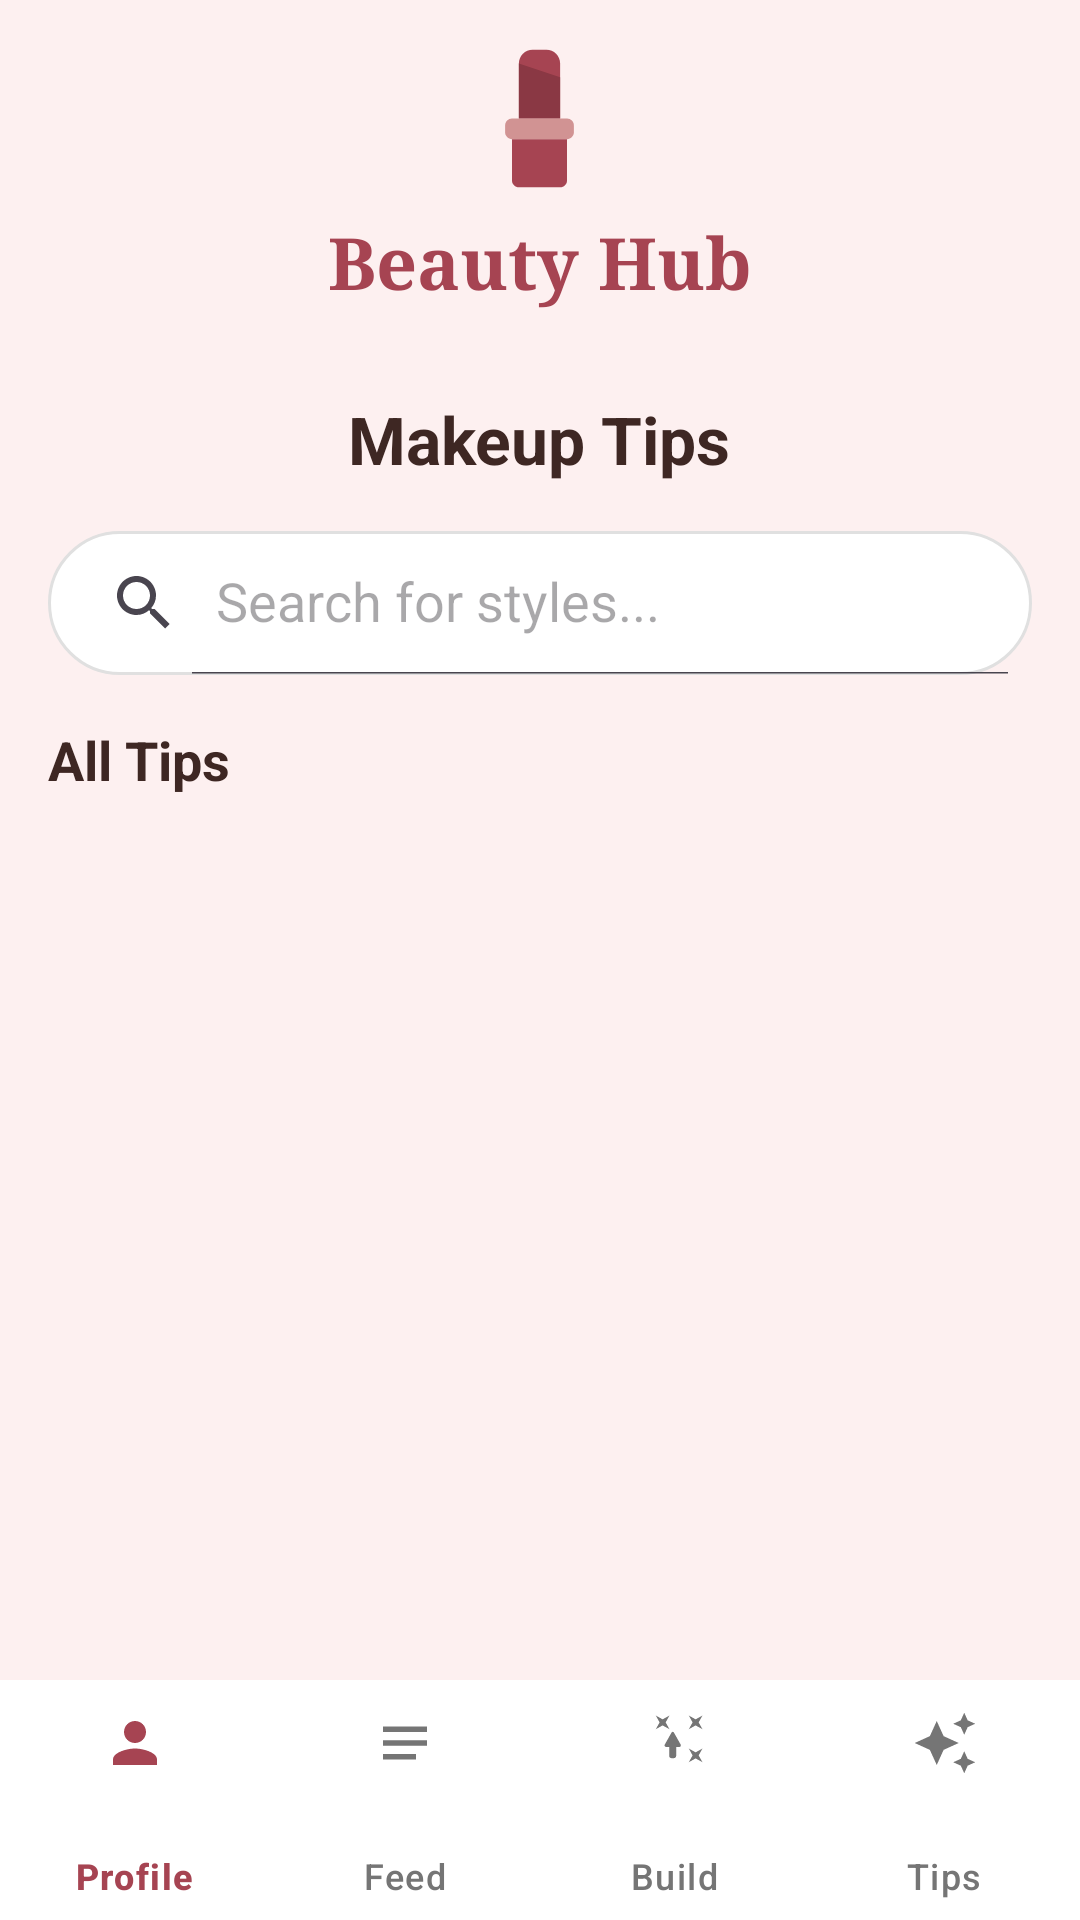

Point at icon controls on the screen. Image size 1080×1920, points as (x=x, y=y).
lipstick: (x=539, y=118)
